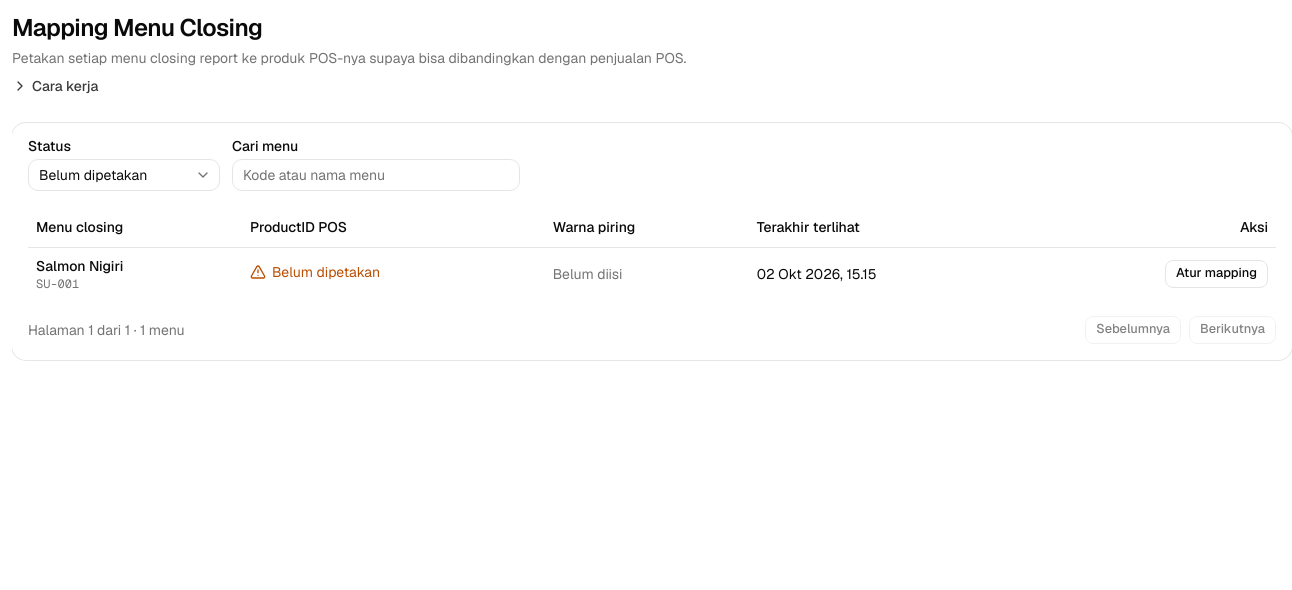
it: ClosingMenusView — daftar › penjelasan pengali memakai unit POS per porsi
The image size is (1292, 590).
Penjelasan lengkap ada di balik "Cara kerja" (tertutup secara default).
What coordinates should you click on to do the following:
click the heading "Cara kerja"
I would click on:
 (55, 86)
Its box is left=12, top=76, right=98, bottom=96.
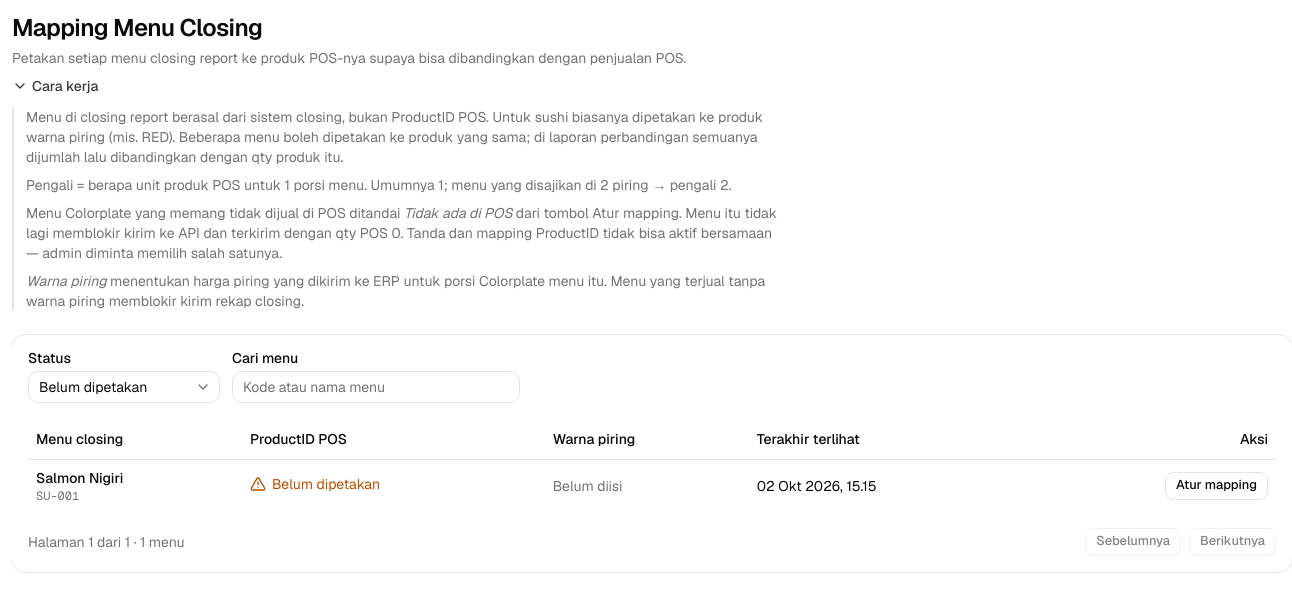
Expected: the text "berapa unit produk POS untuk 1 porsi menu" is shown, left=26, top=176, right=731, bottom=194
